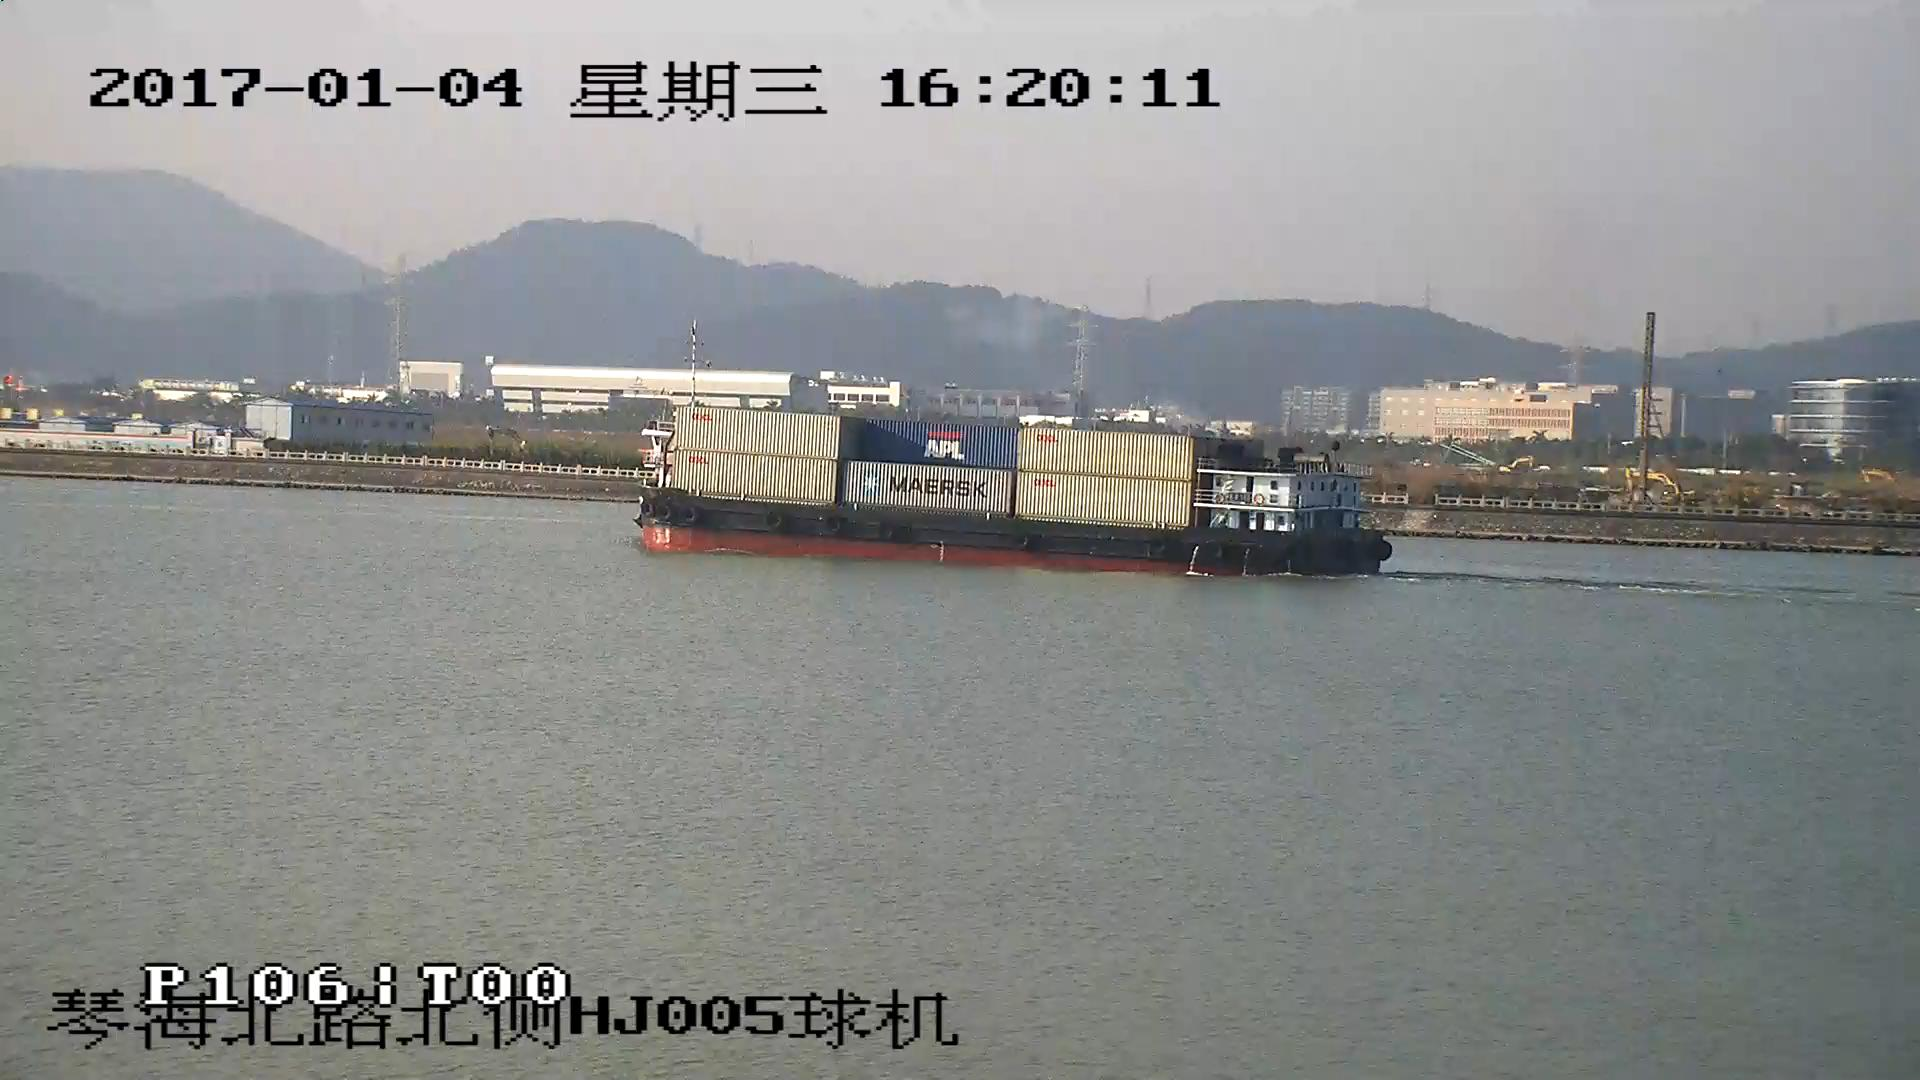container ship: (628, 405, 1391, 579)
